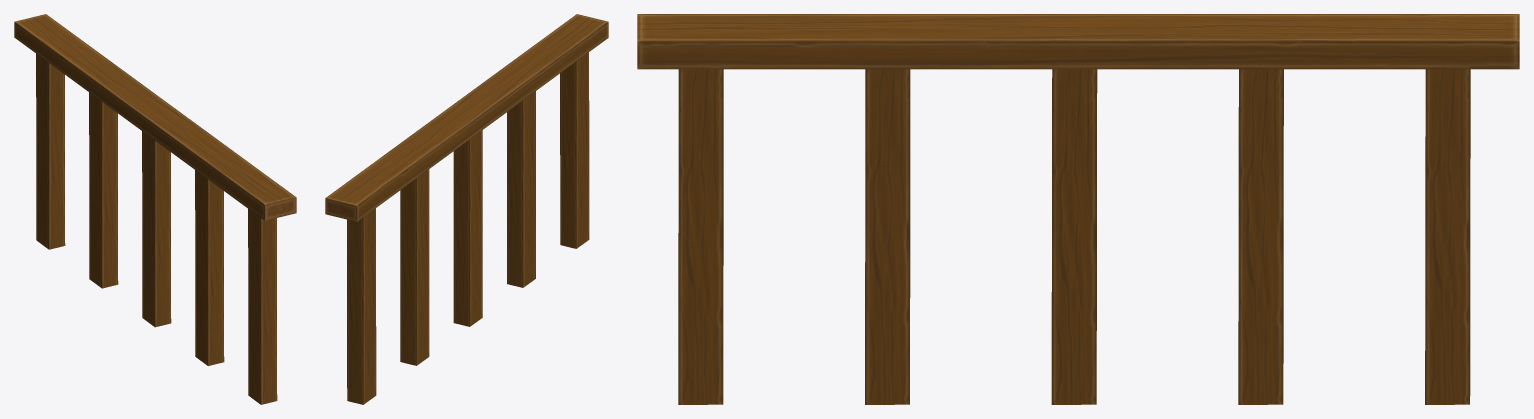
Rendered from SM_Stairs_Interior_C_Handrails_Top_02.fbx.
The picture shows the model from 3 angles, left to right: view 1: azimuth 30°, elevation 25°; view 2: azimuth 150°, elevation 25°; view 3: azimuth 270°, elevation 25°; orthographic projection. The views are drawn at different scales.
Visible parts, largest first — view 1: SM_Stairs_Interior_C_Handrails_Top_02; view 2: SM_Stairs_Interior_C_Handrails_Top_02; view 3: SM_Stairs_Interior_C_Handrails_Top_02.
Part boxes in pixels (x1,y1,x2,y2): SM_Stairs_Interior_C_Handrails_Top_02: [14, 14, 296, 404]; SM_Stairs_Interior_C_Handrails_Top_02: [325, 14, 608, 404]; SM_Stairs_Interior_C_Handrails_Top_02: [637, 14, 1519, 404].
Size of the model in its own units: 0.1444 by 0.9176 by 1.98.
